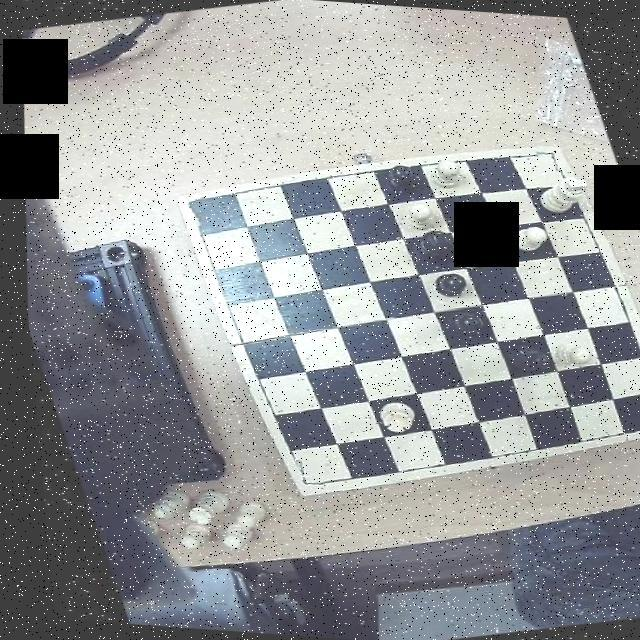chess-table-corners: (278, 455, 322, 495), (172, 188, 216, 227), (528, 142, 566, 172), (630, 403, 640, 436)
